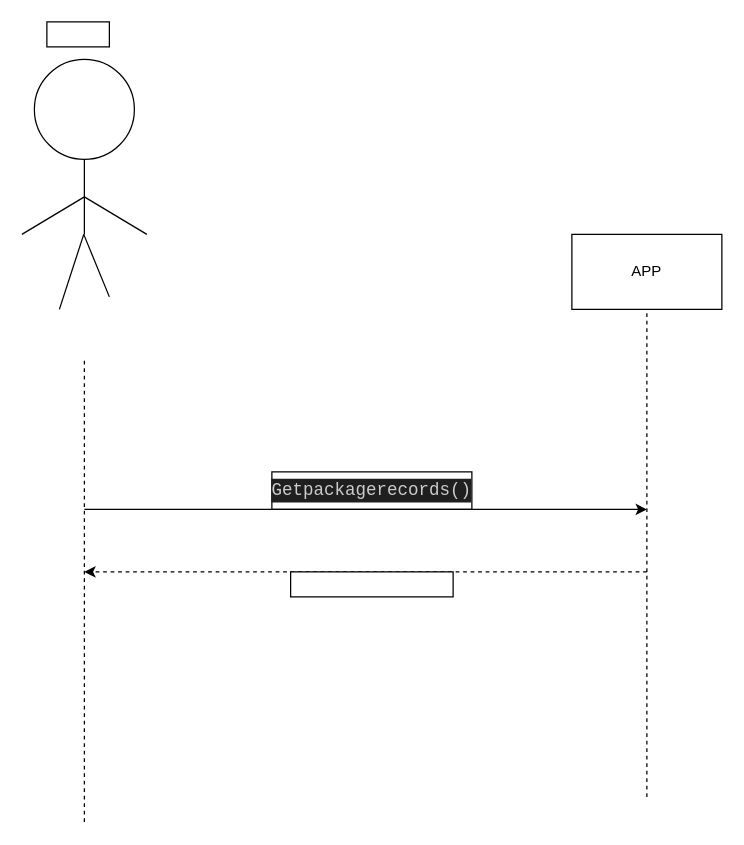
The diagram is 744 pixels wide and 845 high, and some of its shapes have lost their labels. The shapes that lost their labels are listed below. From the top down, each one's centre as x and y in pixels, then its label:
the point at 77,34: 住戶
the point at 371,584: packagerecords
